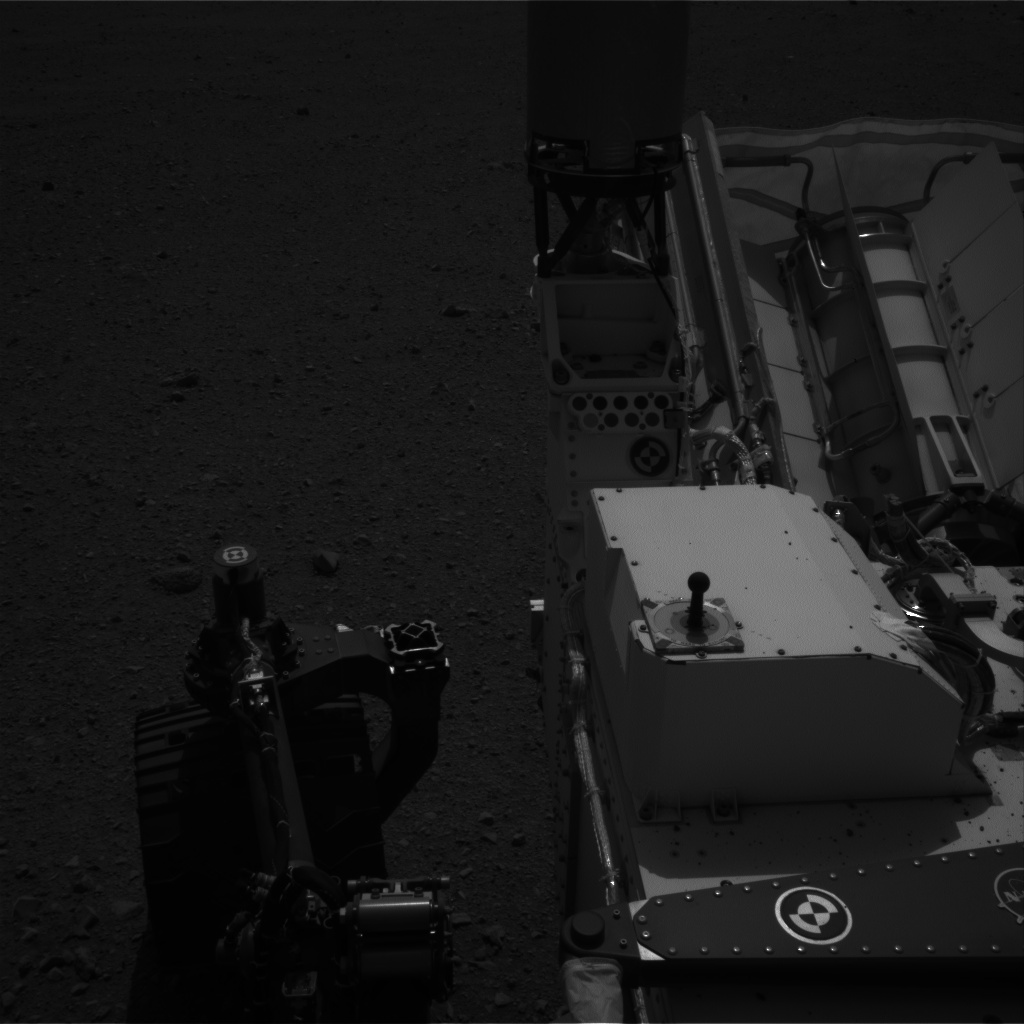soil: (708, 23, 1005, 84)
